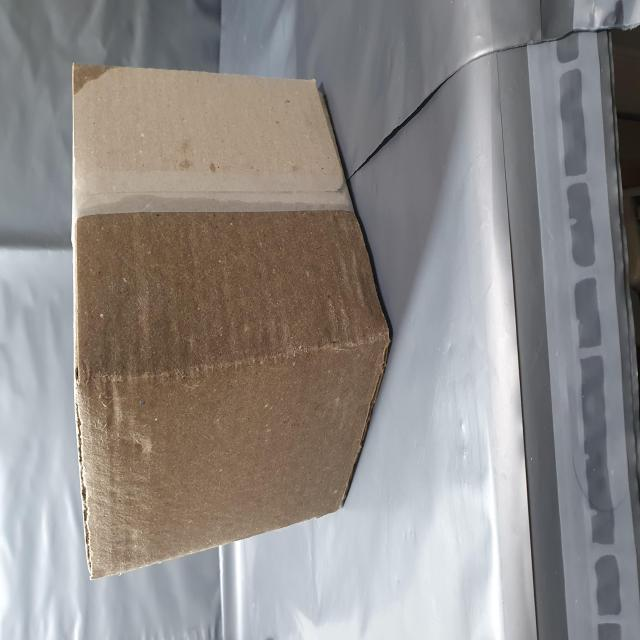wet: (36, 123, 327, 640)
